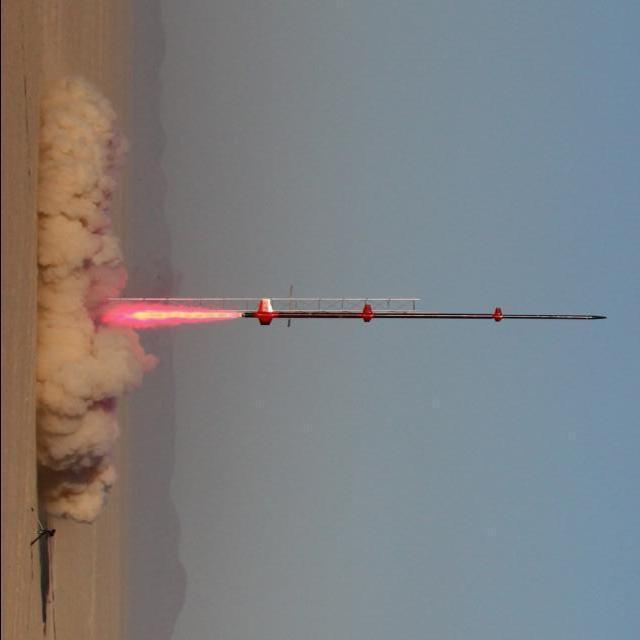missile: (239, 303, 613, 334)
